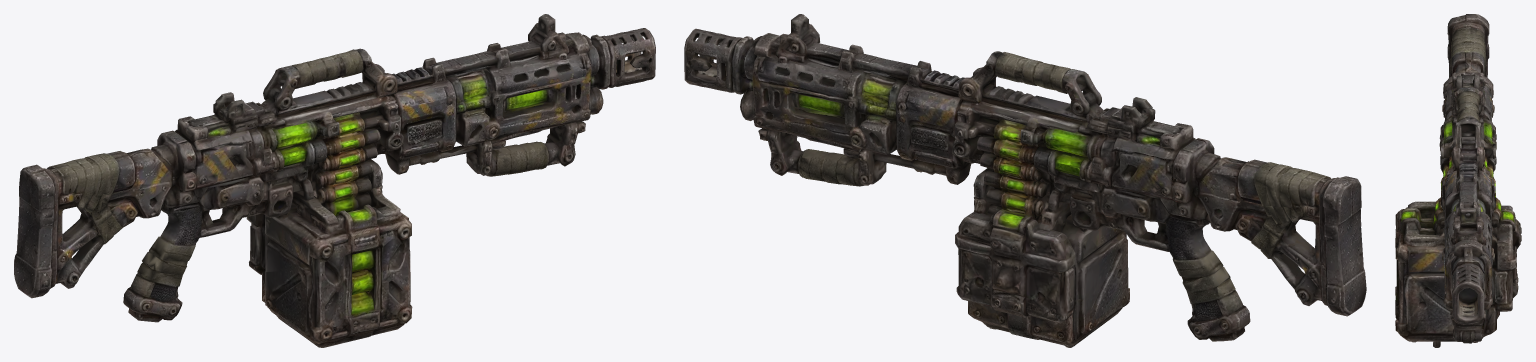
The model's file is rn_venom.glb.
3 views of the same model, side by side, from view 1: azimuth 30°, elevation 25°; view 2: azimuth 150°, elevation 25°; view 3: azimuth 270°, elevation 25° (orthographic). The views are drawn at different scales.
Parts seen in each view (by area): view 1: tripo_node_90e71533-f474-4585-a31a-ece8ea7c7dd8; view 2: tripo_node_90e71533-f474-4585-a31a-ece8ea7c7dd8; view 3: tripo_node_90e71533-f474-4585-a31a-ece8ea7c7dd8.
Part boxes in pixels (x1,y1,x2,y2): tripo_node_90e71533-f474-4585-a31a-ece8ea7c7dd8: (14,14,655,347); tripo_node_90e71533-f474-4585-a31a-ece8ea7c7dd8: (684,14,1366,347); tripo_node_90e71533-f474-4585-a31a-ece8ea7c7dd8: (1395,14,1521,347).
Size of the model in its own units: 0.9799 by 0.4017 by 0.1969.
Materials: 1 (1 with a texture image).
